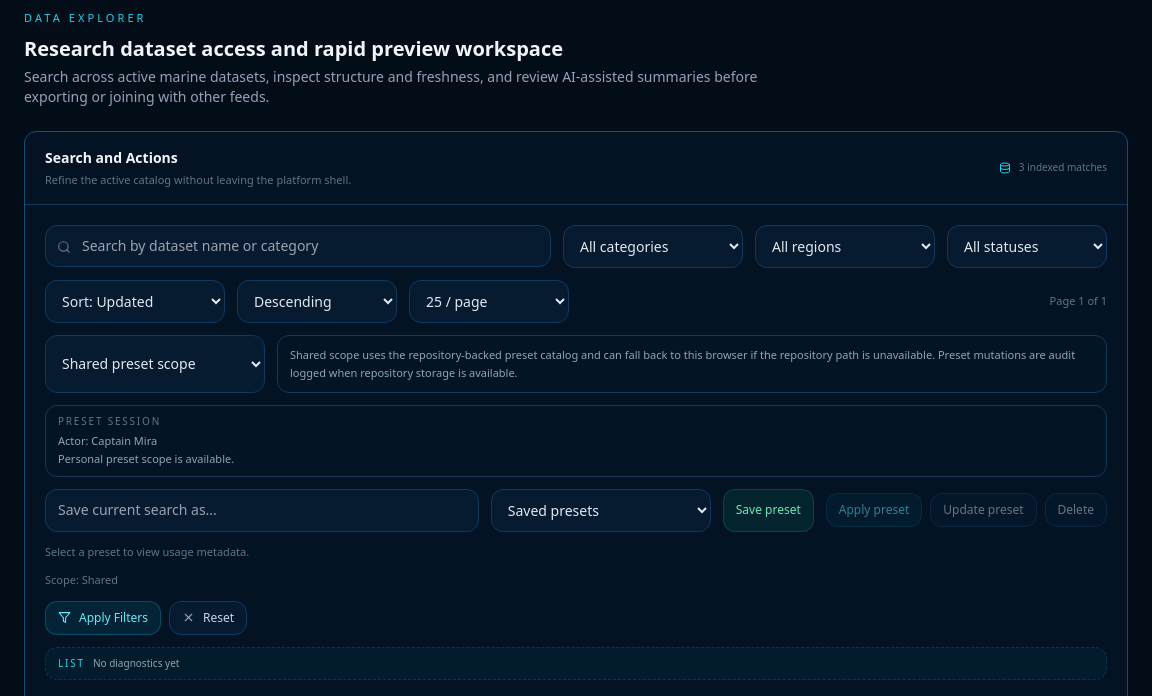
empty refresh results clear the selected detail and related-record panels safely
The image size is (1152, 696).
Click the button "Apply Filters" at (103, 618), box [45, 601, 161, 635]
(page scrolled)
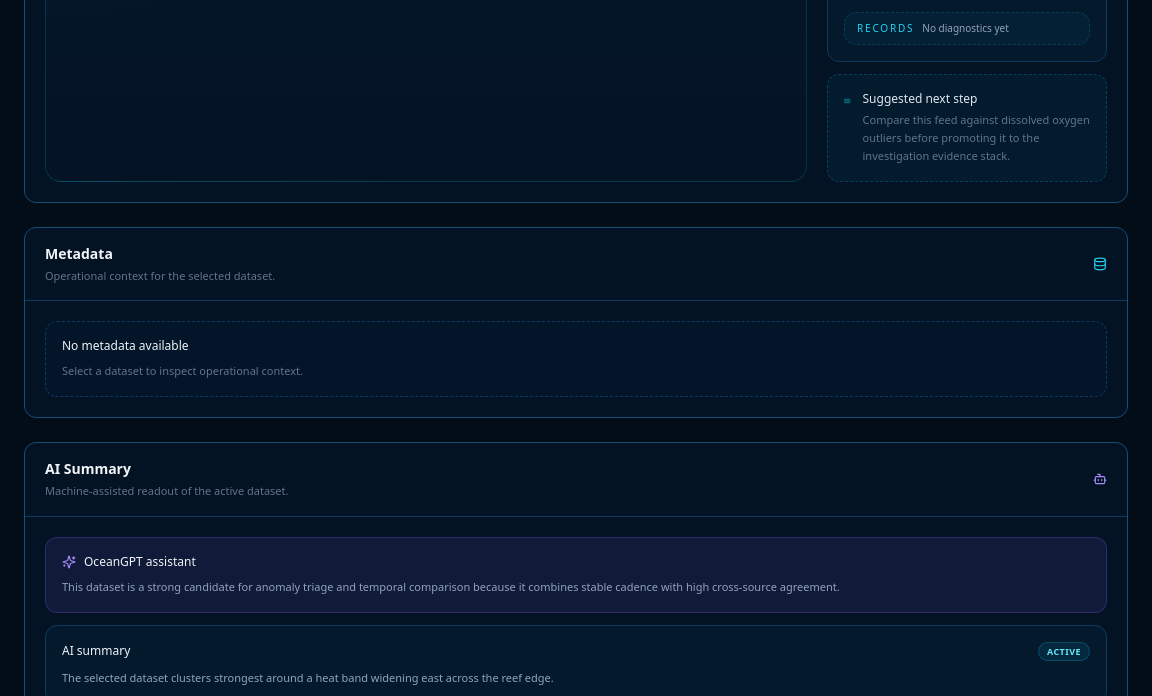
Now the text "No metadata available" is shown, box [62, 337, 189, 354]
